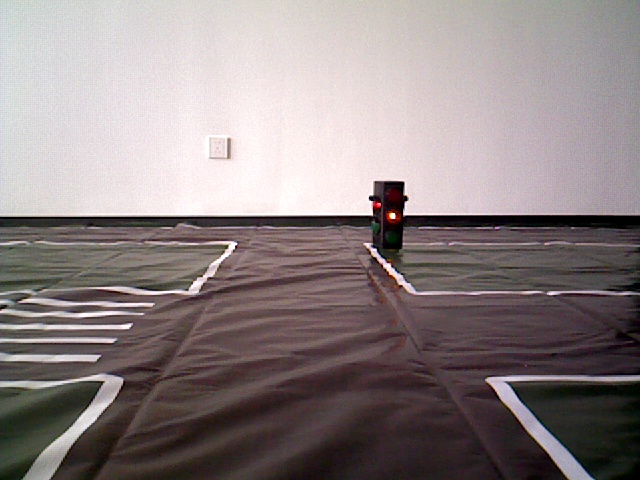yellow: (371, 173, 401, 252)
